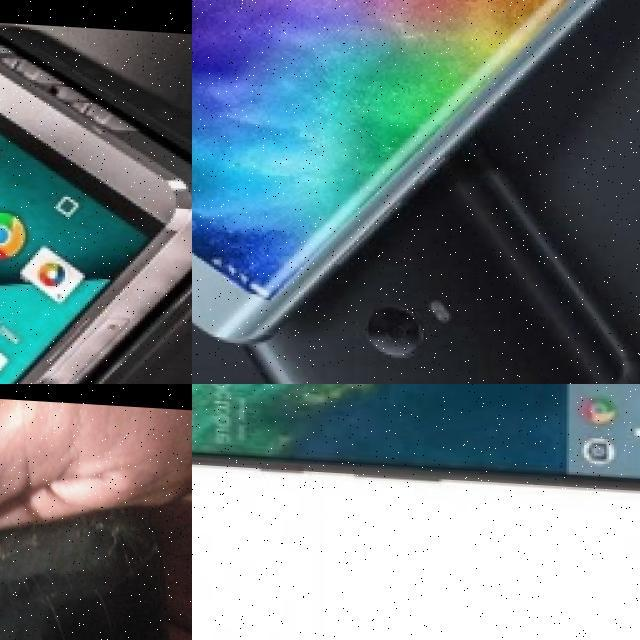screen crack: (0, 509, 162, 628)
